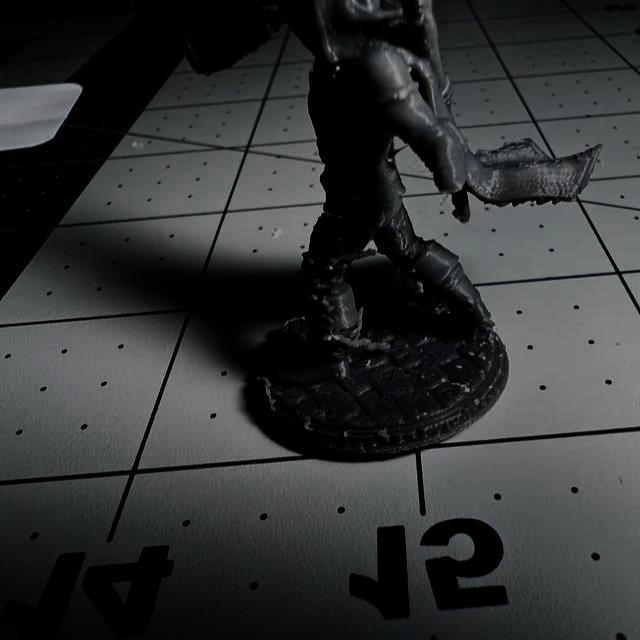blobs: (346, 190, 364, 208), (300, 254, 318, 270), (313, 278, 329, 294), (338, 260, 352, 274), (322, 262, 337, 274), (320, 298, 334, 310), (322, 332, 334, 344), (407, 266, 419, 278), (307, 292, 318, 304), (334, 233, 344, 243)
